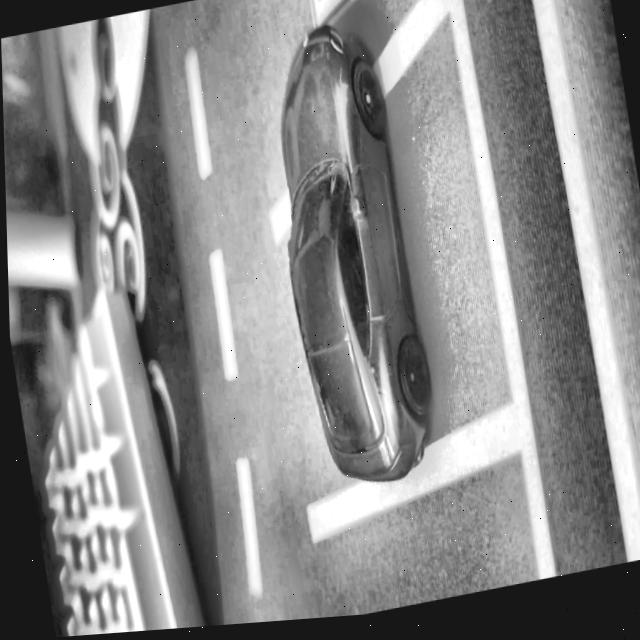car: (251, 14, 442, 501)
